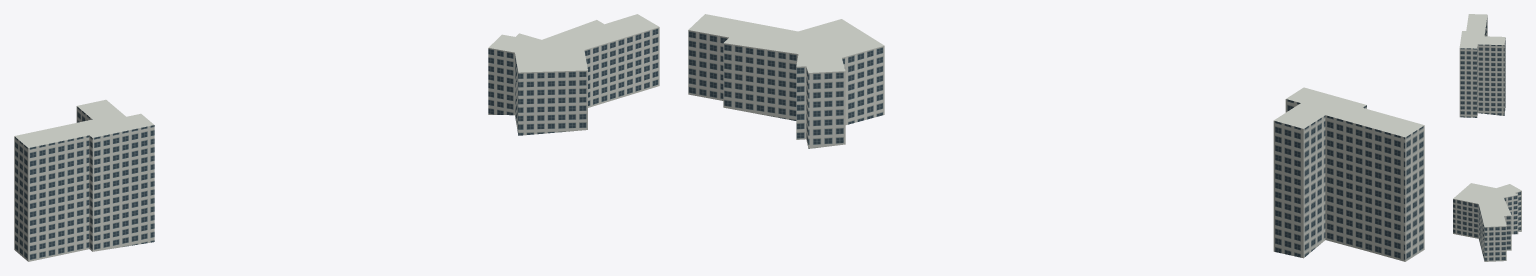
The model's file is city_-5_5.glb.
The picture shows the model from 3 angles, left to right: view 1: azimuth 30°, elevation 25°; view 2: azimuth 150°, elevation 25°; view 3: azimuth 270°, elevation 25°; orthographic projection. The views are drawn at different scales.
Bounding box in the file's own units: 255 × 45.27 × 39.94.
Materials: 1 (1 with a texture image).
